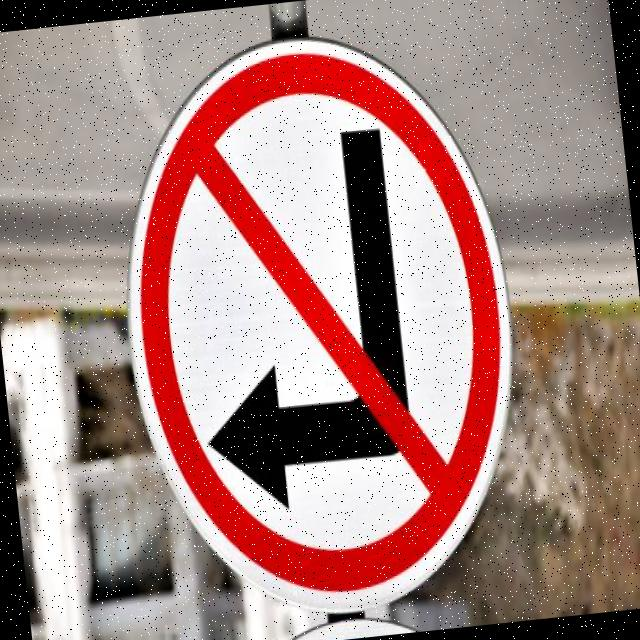do_not_turn_right: (97, 18, 544, 632)
